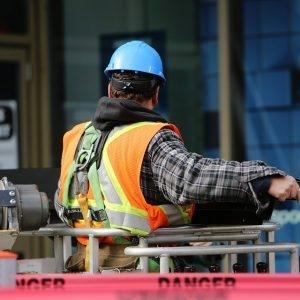helmet: (104, 41, 167, 81)
wear: (63, 122, 191, 228)
